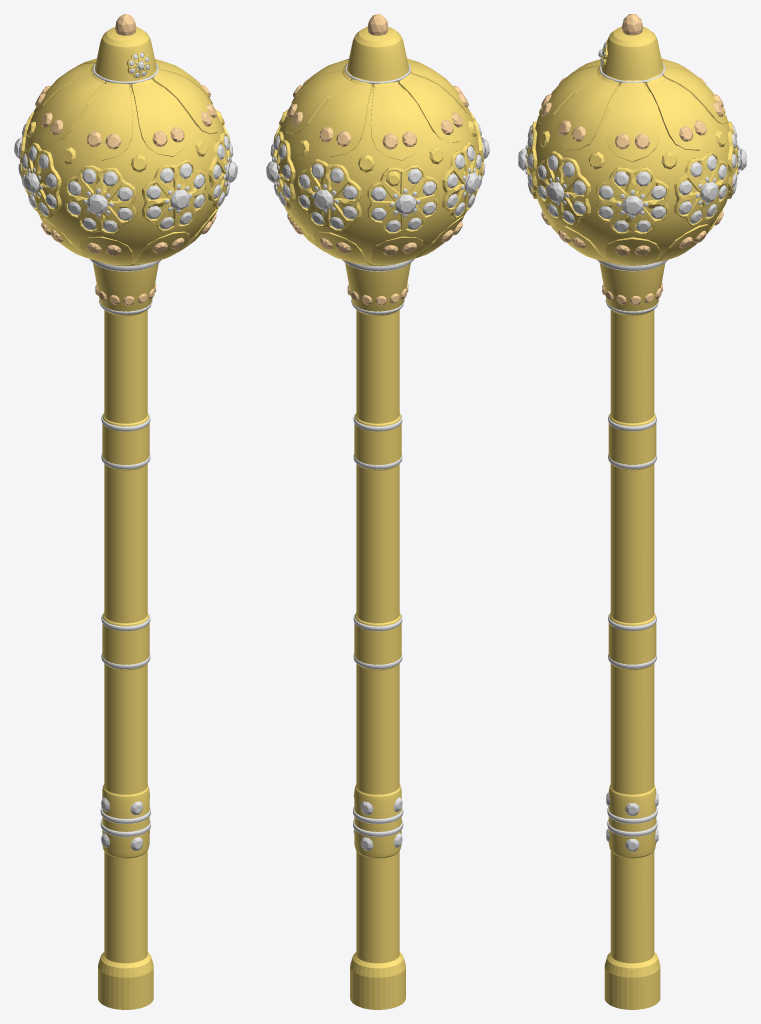
The model's file is MACE_V2b.fbx.
The picture shows the model from 3 angles, left to right: view 1: azimuth 30°, elevation 25°; view 2: azimuth 150°, elevation 25°; view 3: azimuth 270°, elevation 25°; orthographic projection.
Visible parts, largest first — view 1: Cylinder.001, Cylinder.003, Cylinder.006, Cylinder.004, Cylinder.045, Cylinder.002, Cylinder.010, Cylinder, Cylinder.025, Cylinder.019, Cylinder.028, Cylinder.022 (+10 smaller); view 2: Cylinder.001, Cylinder.003, Cylinder.006, Cylinder.004, Cylinder.043, Cylinder.046, Cylinder.010, Cylinder, Cylinder.005, Cylinder.019, Cylinder.029, Cylinder.022 (+11 smaller); view 3: Cylinder.001, Cylinder.003, Cylinder.006, Cylinder.004, Cylinder.040, Cylinder.010, Cylinder.044, Cylinder.042, Cylinder, Cylinder.024, Cylinder.019, Cylinder.022 (+10 smaller).
Boxes of the visible parts, left/top/right/bottom form: Cylinder.001: left=104, top=263, right=147, bottom=963; Cylinder.003: left=24, top=27, right=224, bottom=263; Cylinder.006: left=18, top=52, right=233, bottom=232; Cylinder.004: left=35, top=14, right=216, bottom=305; Cylinder.045: left=79, top=81, right=132, bottom=160; Cylinder.002: left=131, top=78, right=189, bottom=156; Cylinder.010: left=98, top=952, right=153, bottom=1009; Cylinder: left=89, top=63, right=160, bottom=836; Cylinder.025: left=65, top=165, right=136, bottom=234; Cylinder.019: left=102, top=784, right=149, bottom=858; Cylinder.028: left=142, top=159, right=206, bottom=231; Cylinder.022: left=93, top=263, right=158, bottom=316; Cylinder.001: left=356, top=263, right=399, bottom=963; Cylinder.003: left=279, top=27, right=479, bottom=263; Cylinder.006: left=270, top=116, right=485, bottom=232; Cylinder.004: left=287, top=14, right=468, bottom=305; Cylinder.043: left=370, top=80, right=424, bottom=160; Cylinder.046: left=314, top=77, right=371, bottom=156; Cylinder.010: left=350, top=952, right=405, bottom=1009; Cylinder: left=342, top=63, right=414, bottom=836; Cylinder.005: left=367, top=164, right=438, bottom=234; Cylinder.019: left=354, top=784, right=401, bottom=858; Cylinder.029: left=297, top=159, right=361, bottom=231; Cylinder.022: left=345, top=263, right=410, bottom=316; Cylinder.001: left=610, top=263, right=654, bottom=963; Cylinder.003: left=535, top=26, right=729, bottom=259; Cylinder.006: left=527, top=41, right=737, bottom=232; Cylinder.004: left=541, top=14, right=723, bottom=305; Cylinder.040: left=605, top=80, right=659, bottom=162; Cylinder.010: left=604, top=952, right=660, bottom=1009; Cylinder.044: left=646, top=74, right=709, bottom=150; Cylinder.042: left=555, top=74, right=618, bottom=150; Cylinder: left=597, top=63, right=667, bottom=836; Cylinder.024: left=596, top=167, right=668, bottom=234; Cylinder.019: left=608, top=785, right=656, bottom=858; Cylinder.022: left=599, top=263, right=665, bottom=315.
Bounding box in the file's own units: 20.73 × 98.55 × 20.73.
